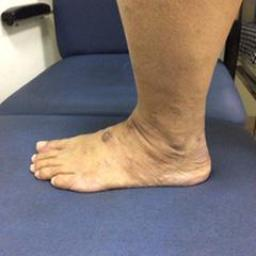Lateral View -Left Foot-: (24, 92, 218, 202)
